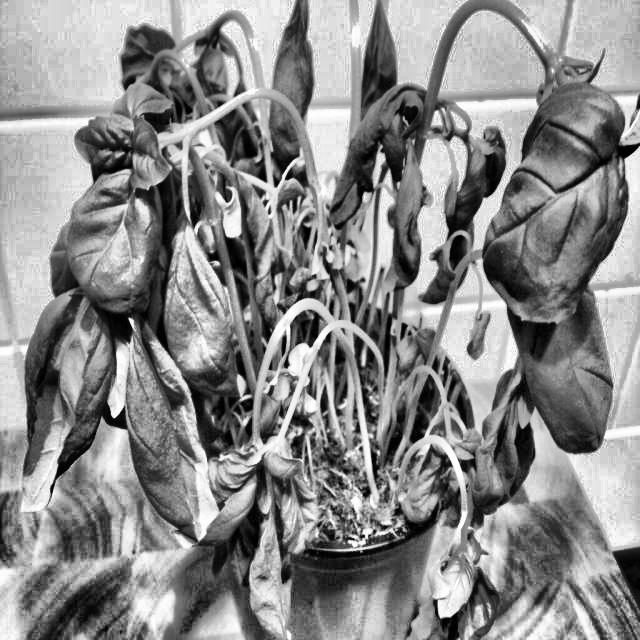plants: (12, 8, 619, 638), (220, 301, 332, 640), (408, 429, 497, 639), (441, 240, 493, 363)
